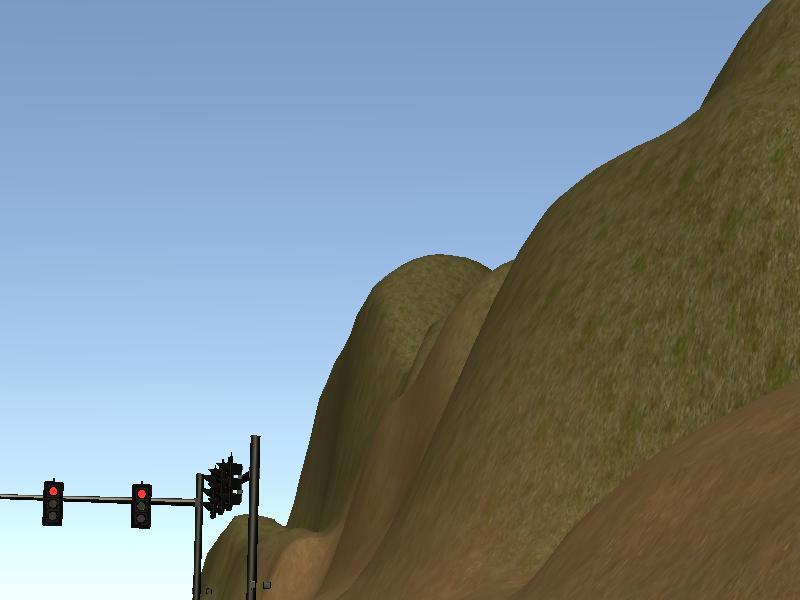Red: (41, 481, 63, 527), (131, 484, 151, 528)
